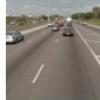cars: (5, 30, 26, 44), (62, 27, 74, 37)
